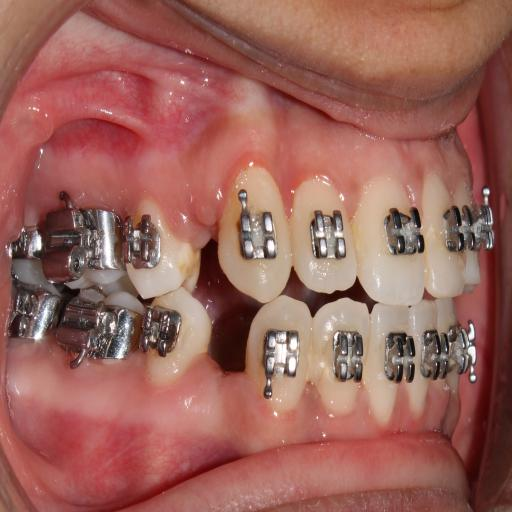correct_brace: (232, 184, 282, 270), (259, 323, 301, 403), (380, 202, 427, 263), (306, 203, 349, 267), (328, 322, 367, 392)
incorrect_brace: (290, 164, 359, 296), (311, 294, 372, 418)
